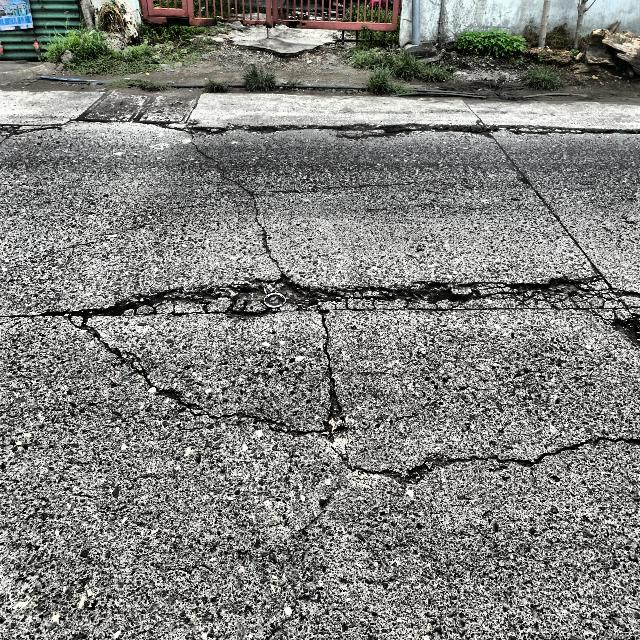major_scaling: (0, 317, 259, 638), (263, 440, 640, 638), (323, 301, 640, 473)
pothole: (281, 283, 627, 321), (71, 288, 280, 320)
